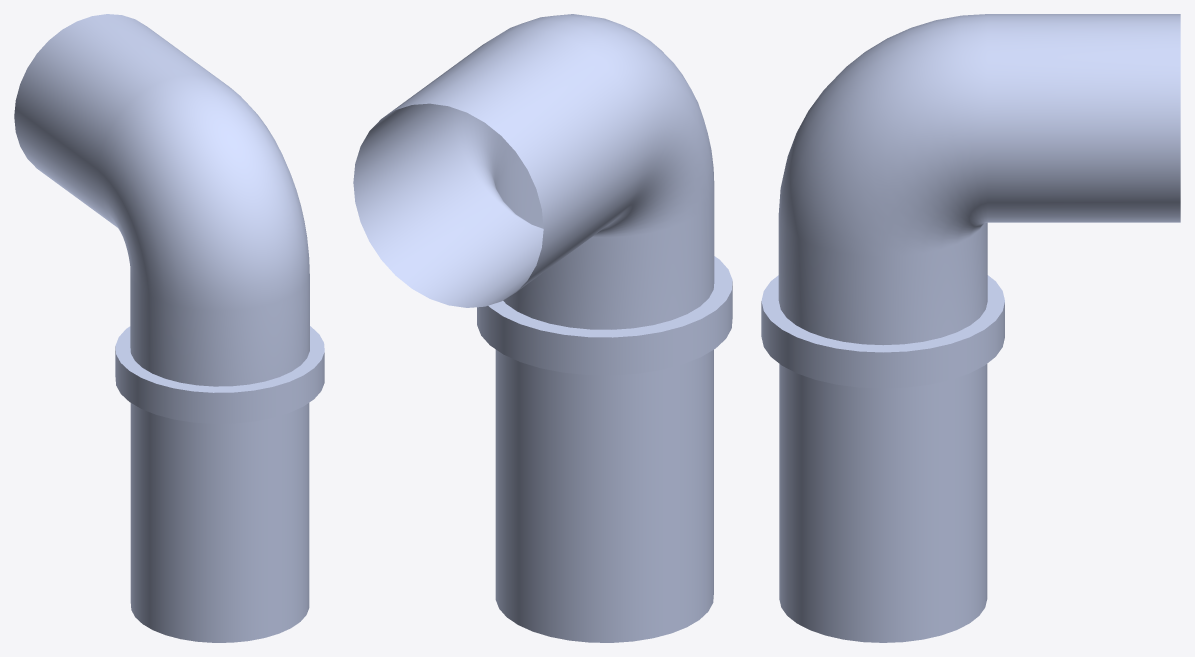
Rendered from Quintuspipe.fbx.
3 views of the same model, side by side, from view 1: azimuth 30°, elevation 25°; view 2: azimuth 150°, elevation 25°; view 3: azimuth 270°, elevation 25° (orthographic). The views are drawn at different scales.
Parts seen in each view (by area): view 1: Circle; view 2: Circle; view 3: Circle.
Part boxes in pixels (left/top/right/bottom): Circle: left=14, top=14, right=324, bottom=642; Circle: left=353, top=14, right=732, bottom=642; Circle: left=761, top=14, right=1180, bottom=642.
Bounding box in the file's own units: 234 × 611 × 403.
